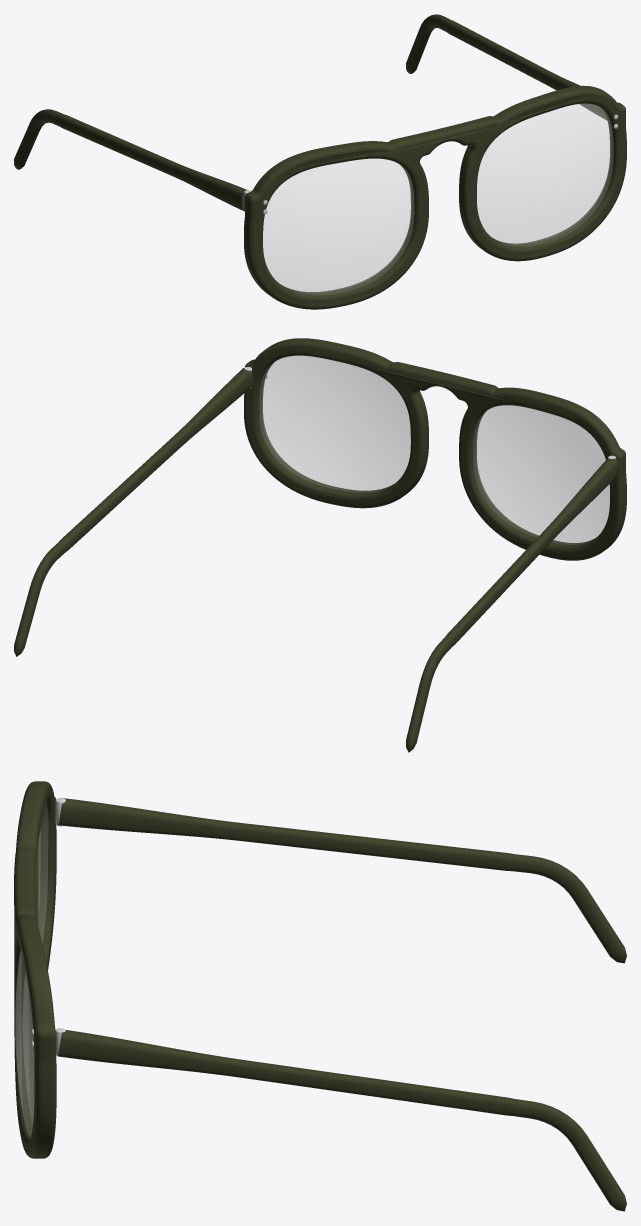
Rendered from theo-l.glb.
The picture shows the model from 3 angles, top to bottom: view 1: azimuth 30°, elevation 25°; view 2: azimuth 150°, elevation 25°; view 3: azimuth 270°, elevation 25°; orthographic projection. The views are drawn at different scales.
Visible parts, largest first — view 1: Front, Lens_R, Lens_L, Temple_R, Temple_L; view 2: Front, Lens_L, Lens_R, Temple_L, Temple_R; view 3: Front, Temple_L, Temple_R, Lens_L, Lens_R.
Part boxes in pixels (x1=…): Front: x1=244, y1=85, x2=626, y2=309; Lens_R: x1=263, y1=159, x2=414, y2=294; Lens_L: x1=477, y1=104, x2=613, y2=246; Temple_R: x1=14, y1=109, x2=246, y2=211; Temple_L: x1=406, y1=14, x2=606, y2=120; Front: x1=244, y1=338, x2=626, y2=560; Lens_L: x1=259, y1=356, x2=410, y2=492; Lens_R: x1=473, y1=405, x2=609, y2=544; Temple_L: x1=14, y1=368, x2=253, y2=656; Temple_R: x1=406, y1=458, x2=619, y2=752; Front: x1=14, y1=781, x2=65, y2=1158; Temple_L: x1=58, y1=1030, x2=626, y2=1211; Temple_R: x1=58, y1=798, x2=626, y2=963; Lens_L: x1=15, y1=950, x2=33, y2=1136; Lens_R: x1=38, y1=805, x2=48, y2=942.
Size of the model in its own units: 0.1434 by 0.0572 by 0.1467.
